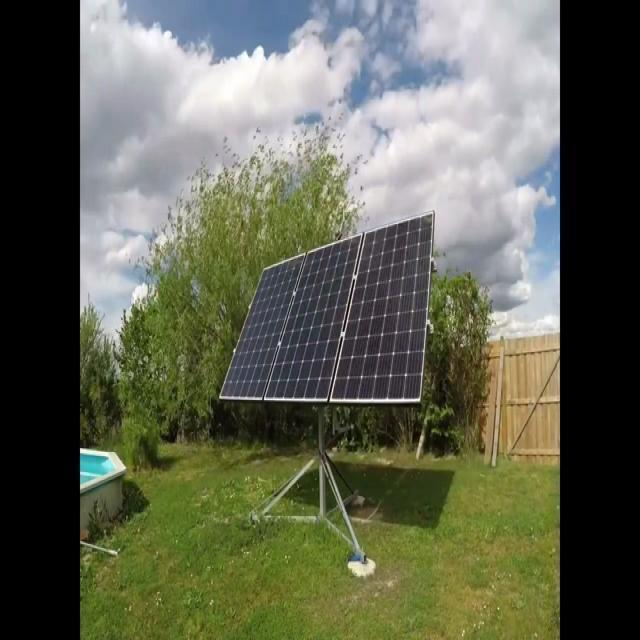Normal Solar Panel: (330, 215, 435, 403), (267, 235, 361, 402), (221, 255, 304, 400)
